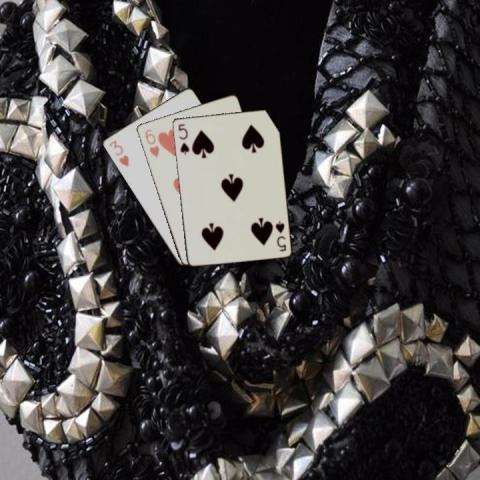3h: (106, 137, 130, 168)
5s: (175, 121, 191, 156), (272, 218, 287, 253)
6h: (142, 126, 160, 159)
